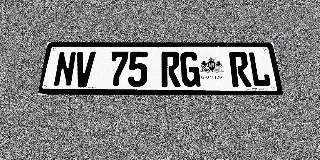5: (128, 52, 148, 87)
7: (108, 52, 129, 87)
G: (180, 52, 201, 87)
L: (247, 52, 272, 87)
N: (53, 52, 77, 87)
R: (229, 52, 252, 87), (161, 52, 181, 87)
V: (73, 52, 96, 87)
